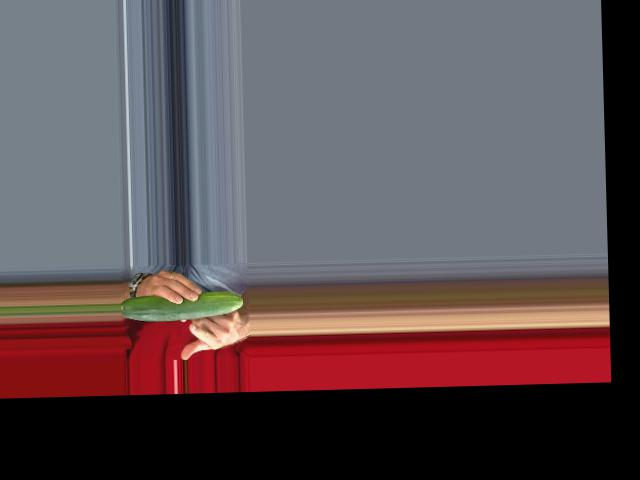cucumber: (119, 289, 243, 322)
